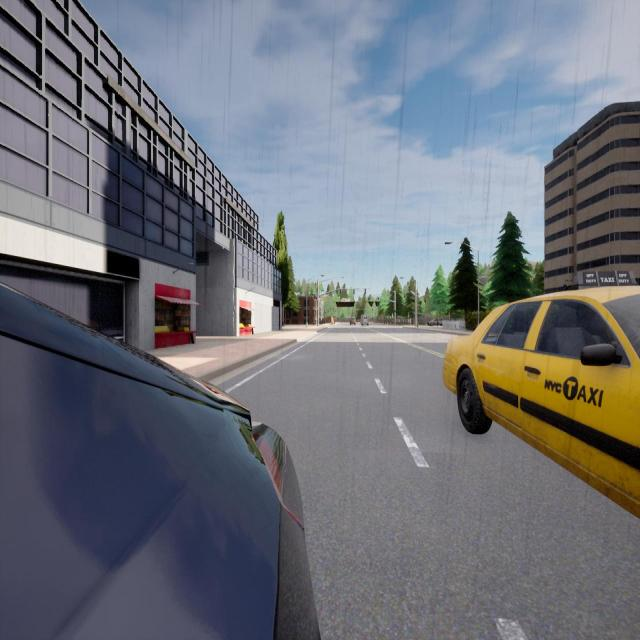Vehicle: (0, 288, 317, 640), (443, 285, 639, 517), (427, 318, 443, 327), (360, 314, 369, 326), (349, 317, 356, 326)
traffic_light: (394, 310, 396, 314), (404, 294, 406, 298), (410, 293, 412, 296), (340, 289, 341, 294), (365, 289, 366, 294), (368, 298, 369, 301), (378, 297, 379, 300), (360, 297, 360, 300), (354, 289, 354, 294)
